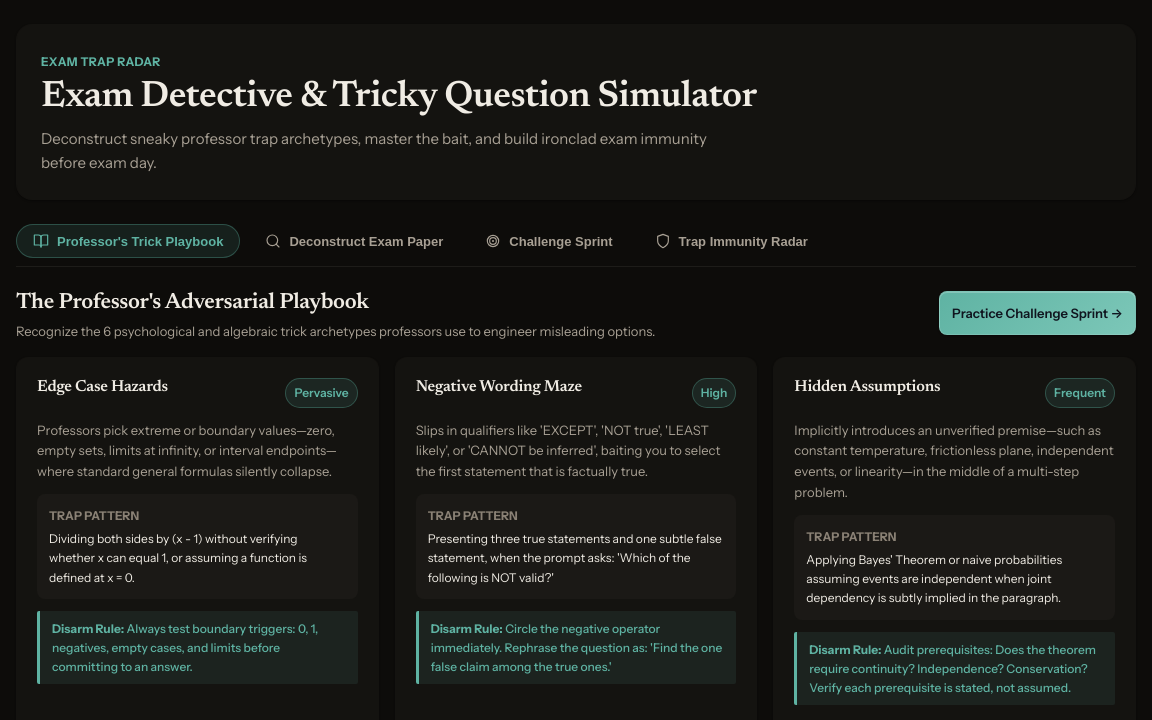
Test: ExamDetectiveHubView › switches to Deconstruct Exam Paper tab and allows scanning text
Click the button "Deconstruct Exam Paper".
click(354, 241)  # box [248,224,460,258]
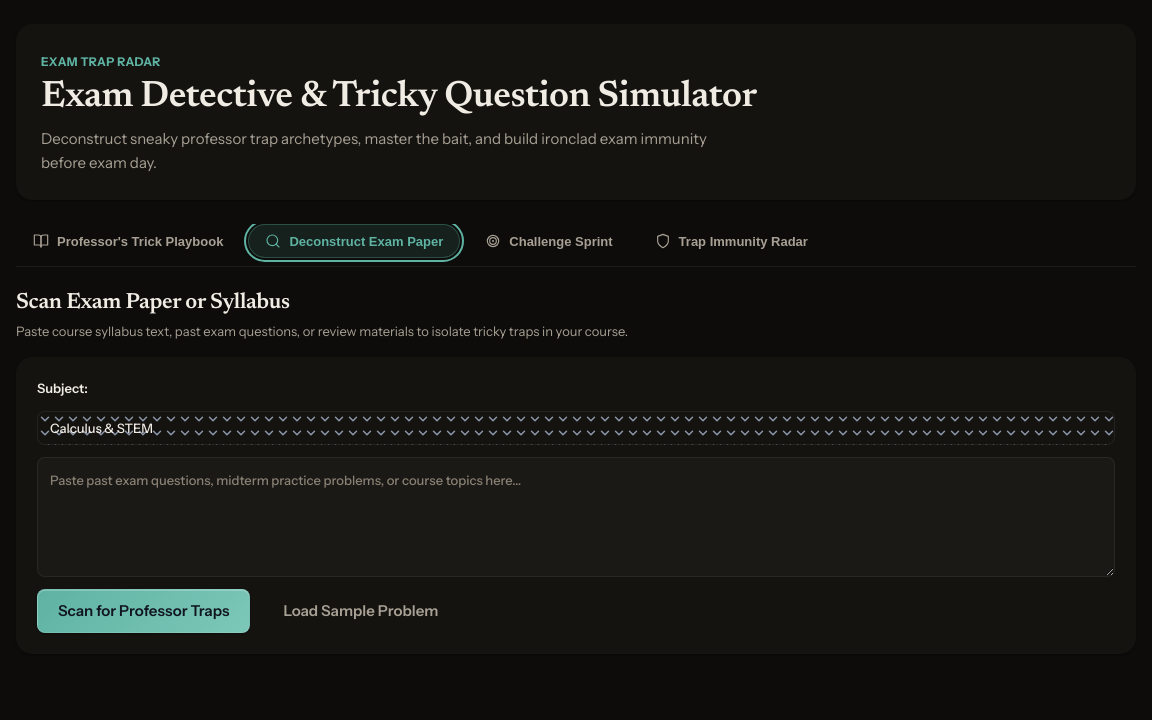
Now the heading "Scan Exam Paper or Syllabus" is shown, box [16,292,290,314]
Now the text box with placeholder "Paste past exam questions" is shown, box [37,457,1115,577]
Click the button "Load Sample Problem".
click(361, 611)  # box [262,589,459,633]
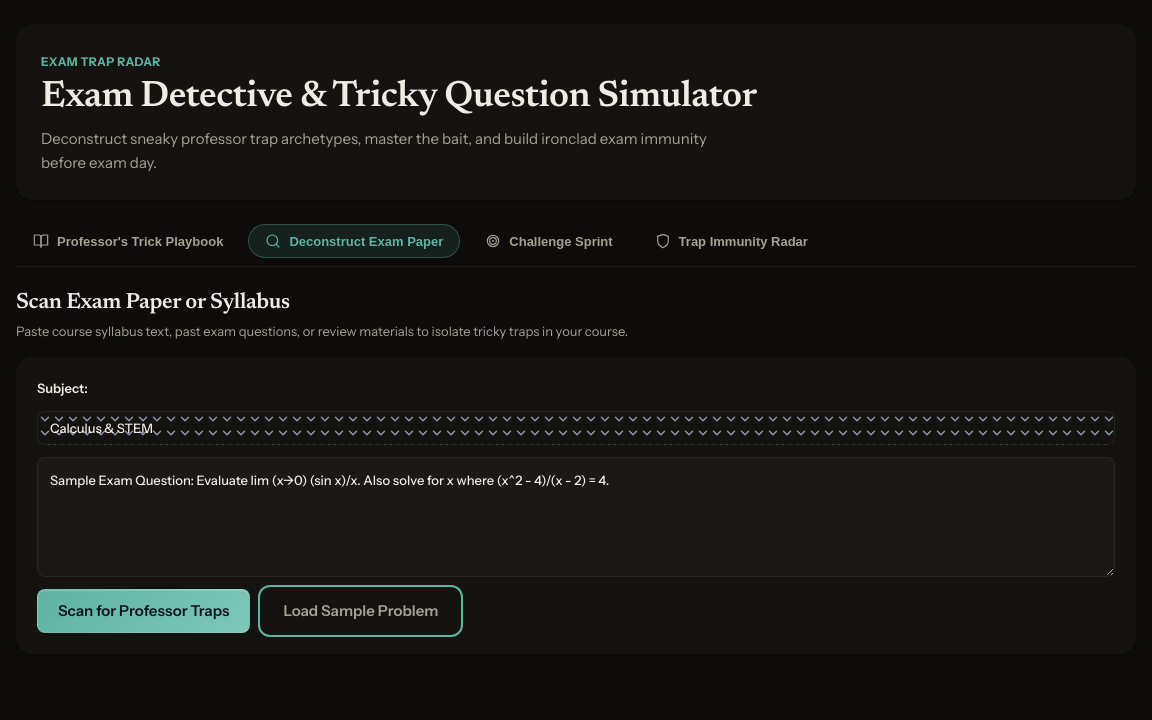
Click the button "Scan for Professor Traps".
click(144, 611)  # box [37,589,250,633]
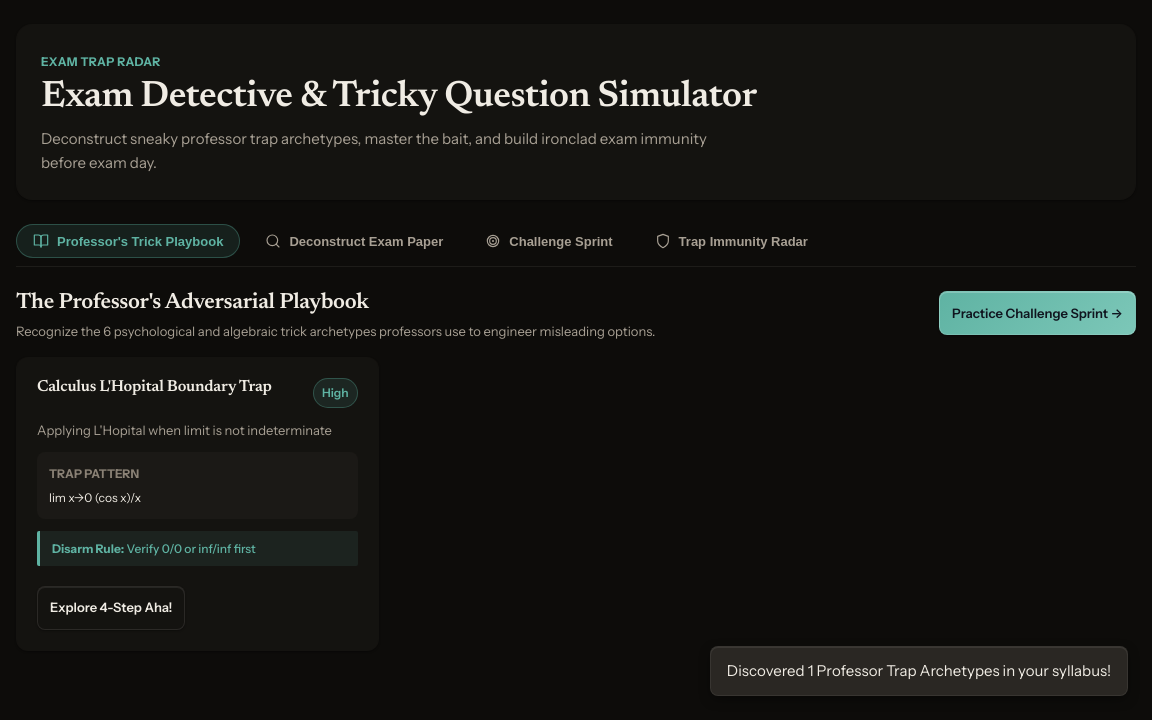
Now the heading "The Professor's Adversarial Playbook" is shown, box [16,292,369,314]
